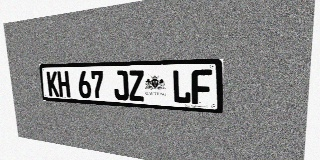6: (77, 71, 92, 99)
7: (90, 71, 105, 99)
F: (191, 69, 212, 105)
H: (57, 71, 70, 97)
J: (113, 70, 129, 101)
K: (46, 71, 59, 97)
L: (172, 70, 191, 104)
Z: (128, 70, 145, 101)
